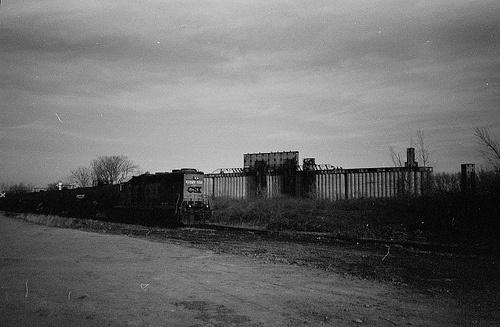train: (1, 169, 213, 230)
